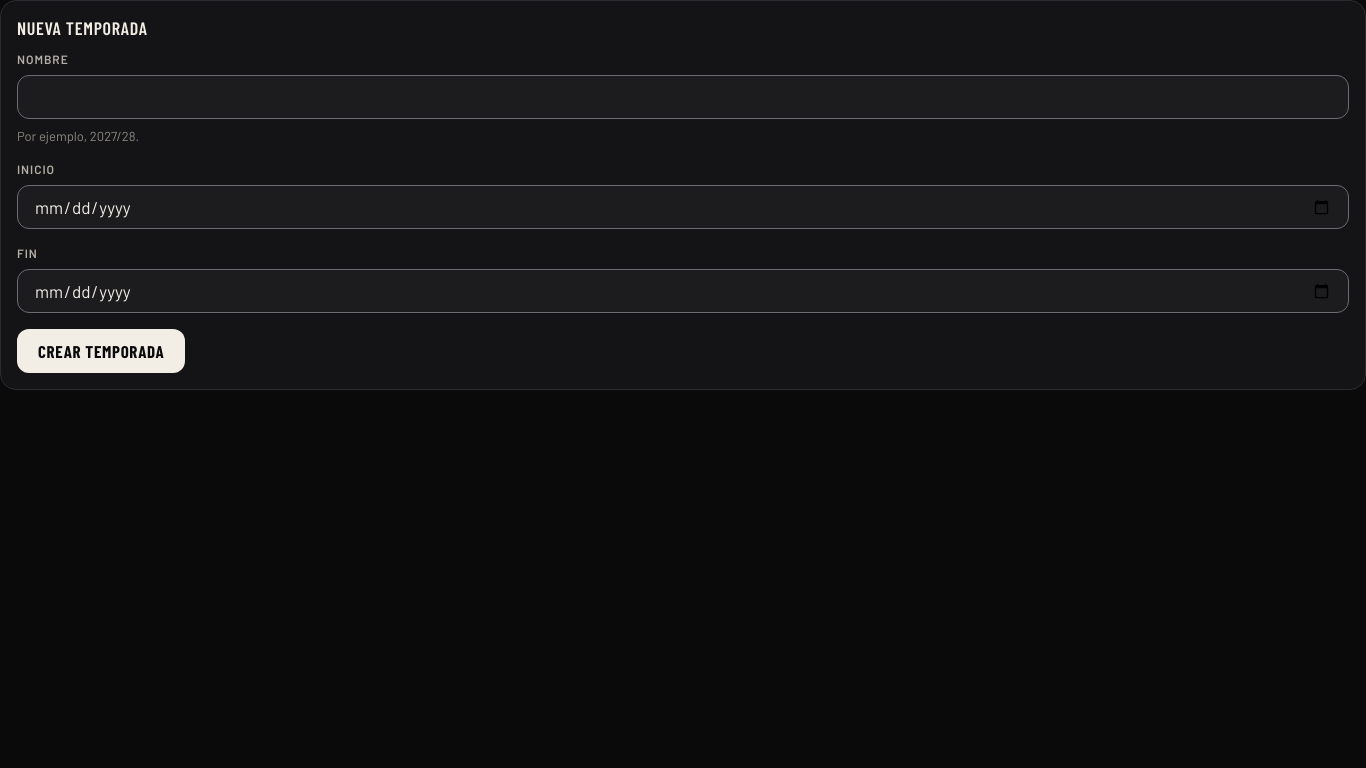
Scenario: SeasonEditor · una temporada nueva › entrada inválida: el aviso general y cada error bajo su campo, enlazado; no navega
The width and height of the screenshot is (1366, 768).
Type "2027/28" into the field labelled "Nombre". click: coordinates (683, 97)
box: [17,75,1349,119]
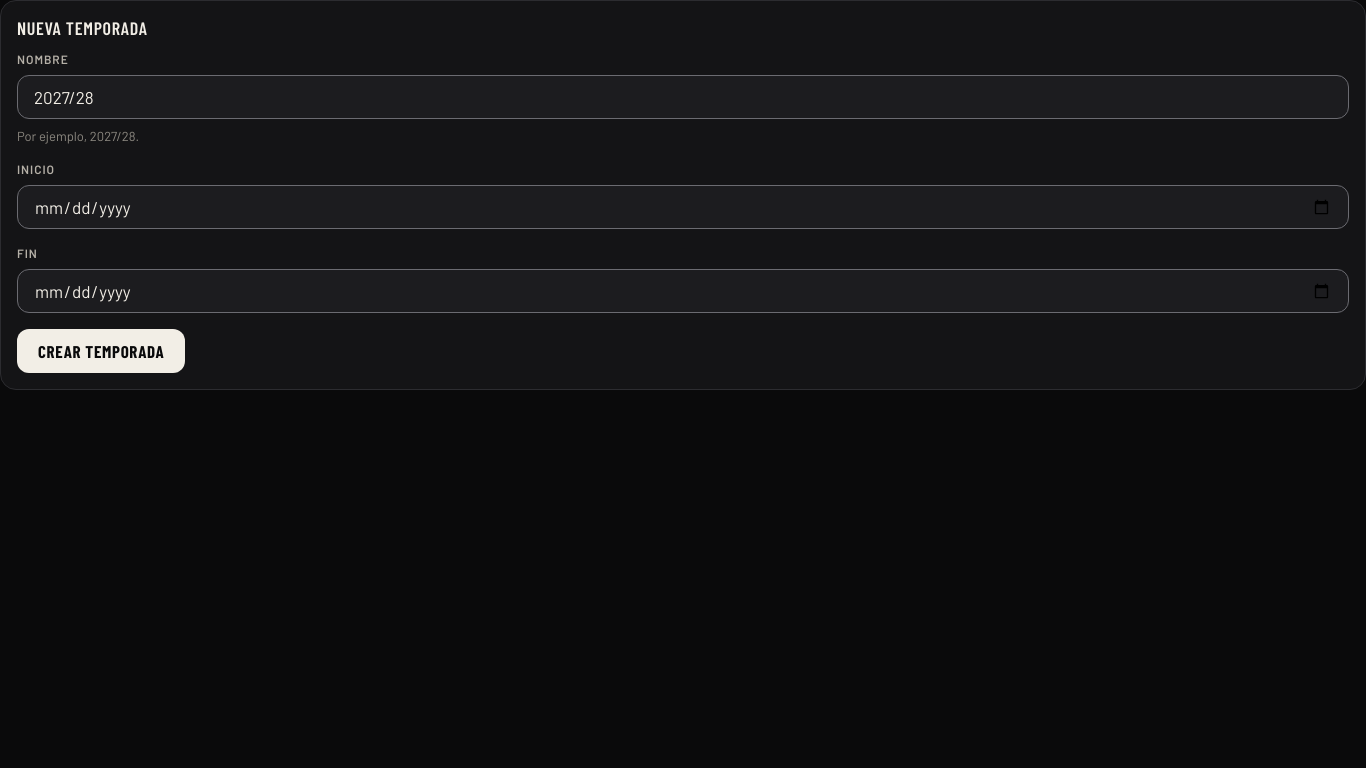
Type "2027-09-01" into the date field labelled "Inicio". click: coordinates (683, 207)
box: [17,185,1349,229]
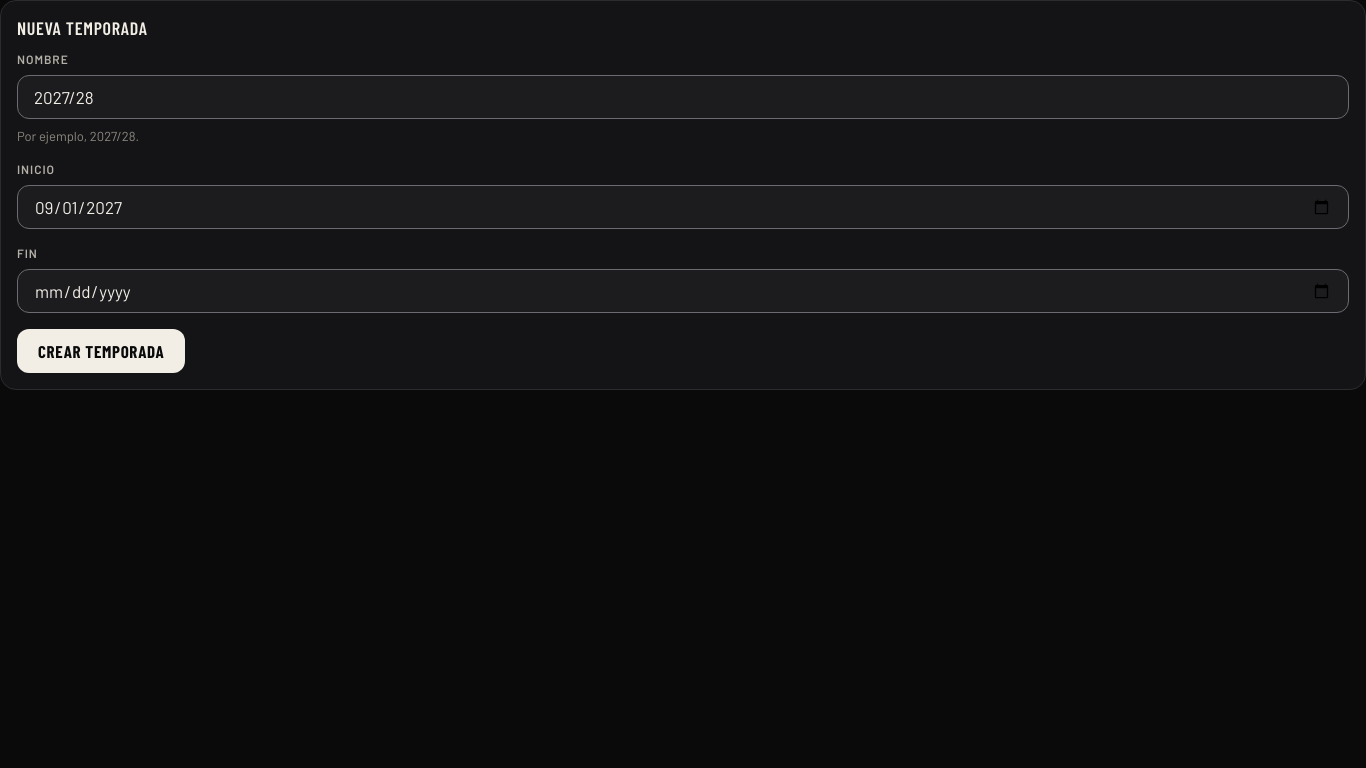
Type "2028-06-30" into the date field labelled "Fin". click: coordinates (683, 291)
box: [17,269,1349,313]
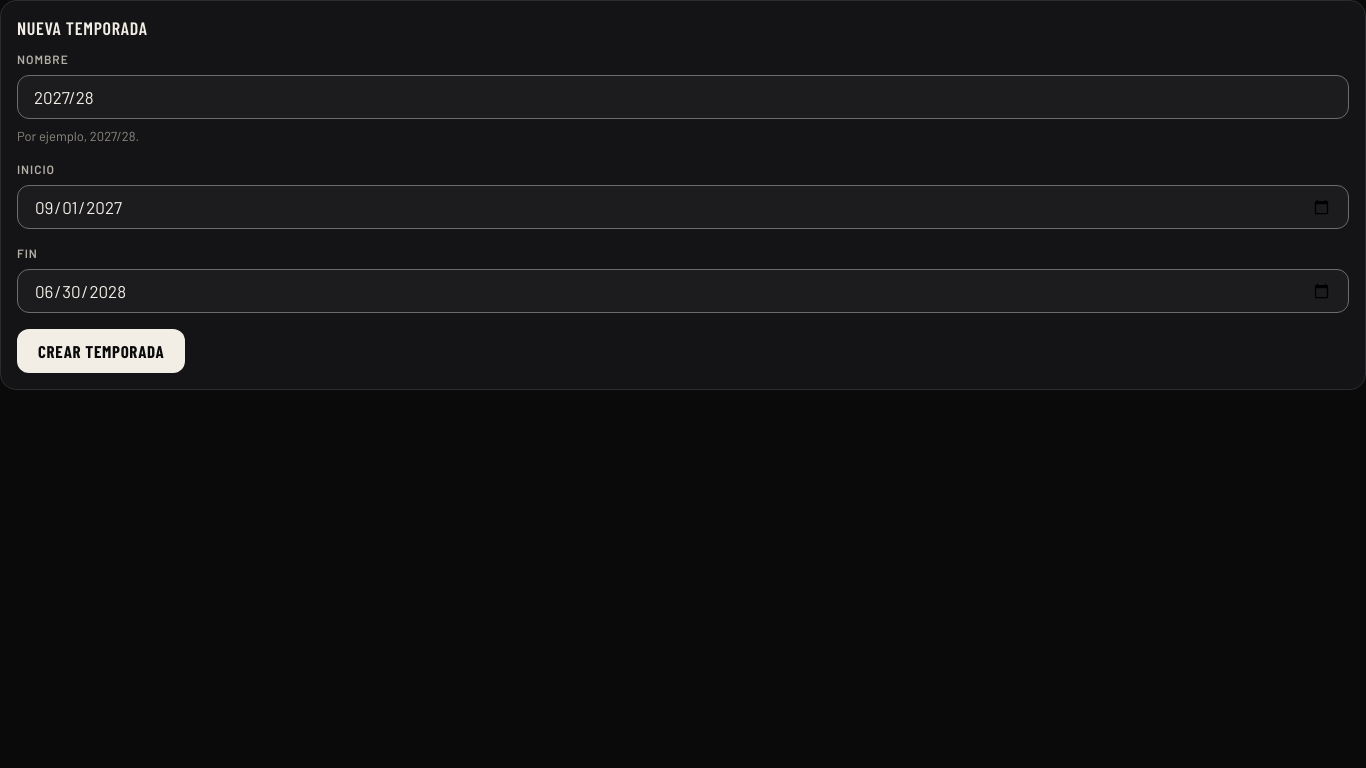
Click the button "Crear temporada". click: coordinates (101, 351)
box: [17,329,185,373]
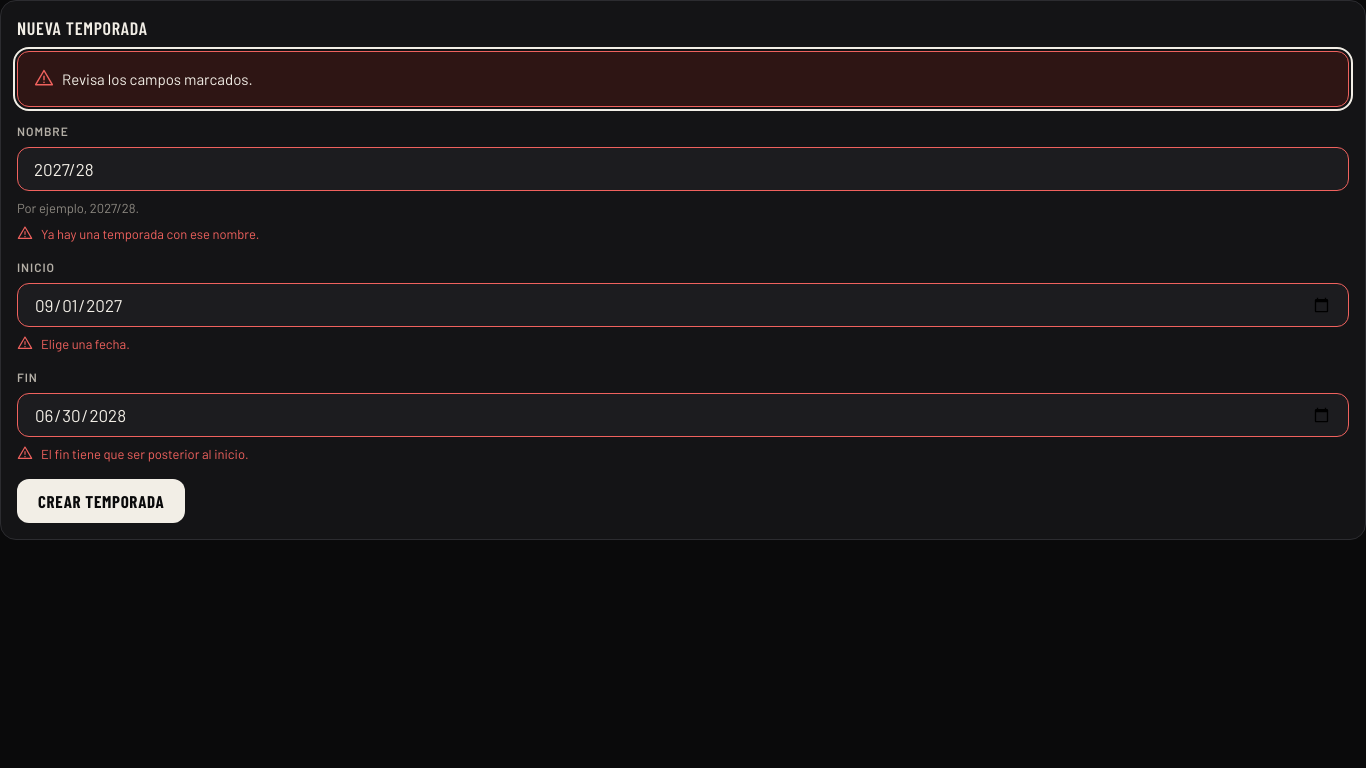
expect the text "Revisa los campos marcados." is shown: met, box [34,68,253,88]
